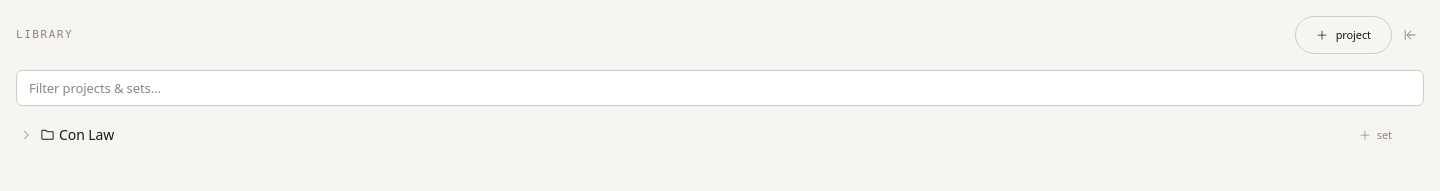
clearing the search query restores the saved collapse state
Expected: the link "Judicial Review" is not shown
Type "judicial" into the field with placeholder "Filter projects & sets…" at {"x": 720, "y": 88}, box [16,70,1424,106]
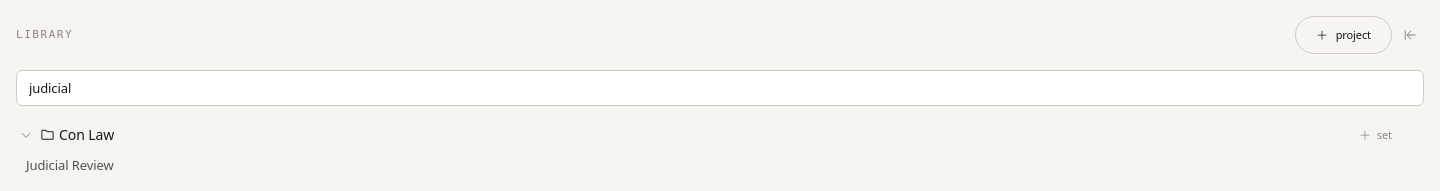
Expected: the link "Judicial Review" is shown, [26,156,114,174]
Clear the field with placeholder "Filter projects & sets…" at {"x": 720, "y": 88}, box [16,70,1424,106]
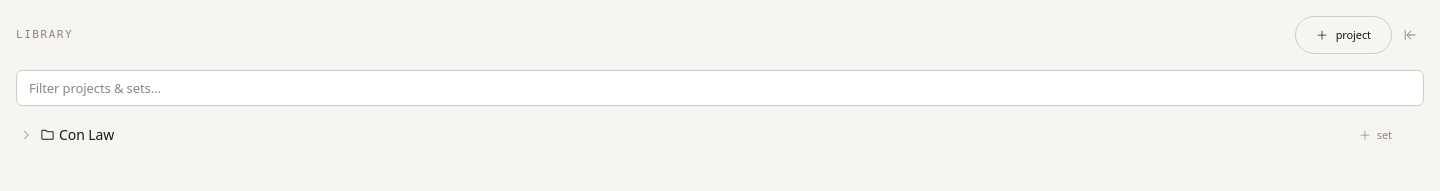
Expected: the link "Judicial Review" is gone
